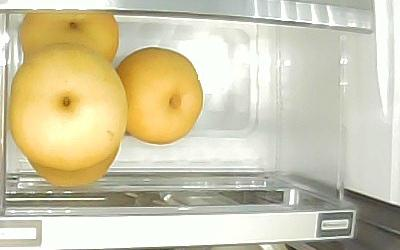pear: (8, 44, 127, 171), (114, 47, 204, 145), (19, 9, 119, 65), (26, 136, 121, 187)
